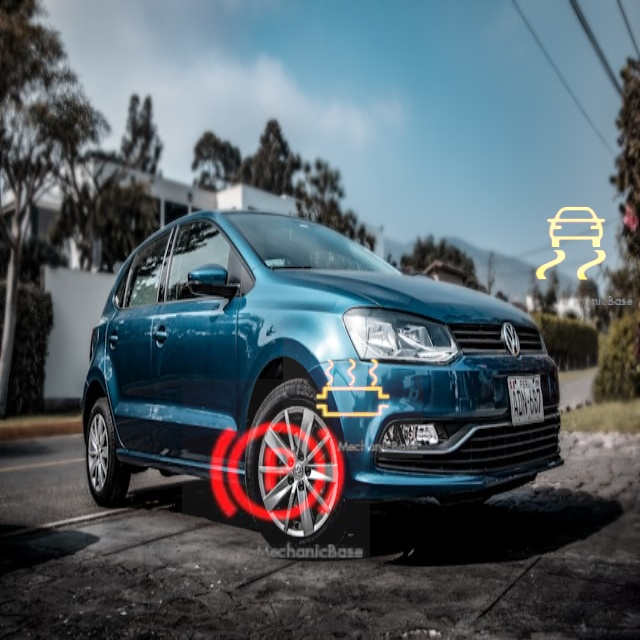symbol: (182, 379, 370, 567), (283, 318, 423, 458), (503, 177, 638, 312)
